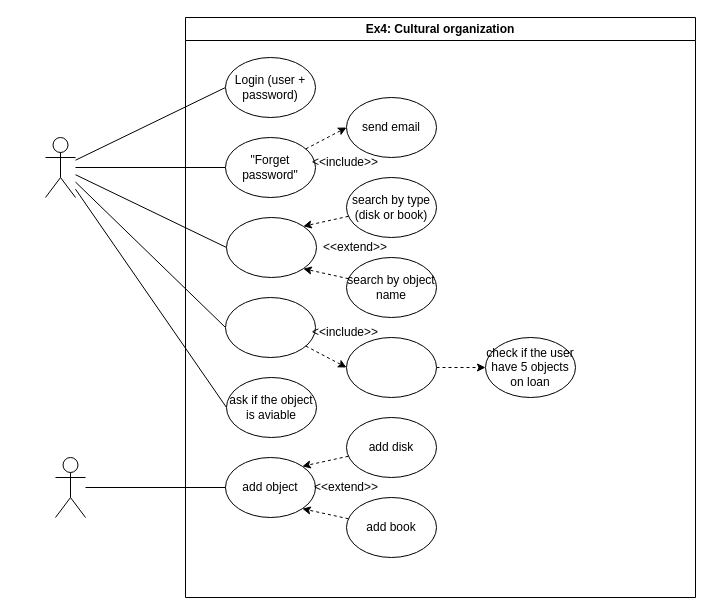
The diagram is 713 pixels wide and 615 high, and some of its shapes have lost their labels. The centre of each missing label's shape, as x and y in pixels:
"chexk stock" belongs at (x=391, y=367).
"choose object" belongs at (x=270, y=327).
"cultural organization" belongs at (x=70, y=487).
"Customer" belongs at (x=60, y=167).
"search" belongs at (x=271, y=247).
